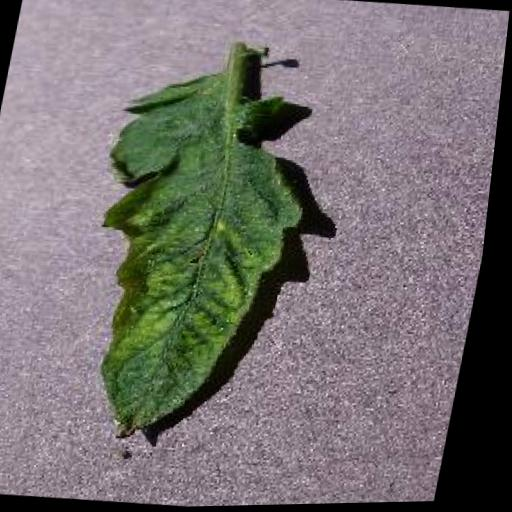Mosaic Virus: (58, 63, 335, 456)
